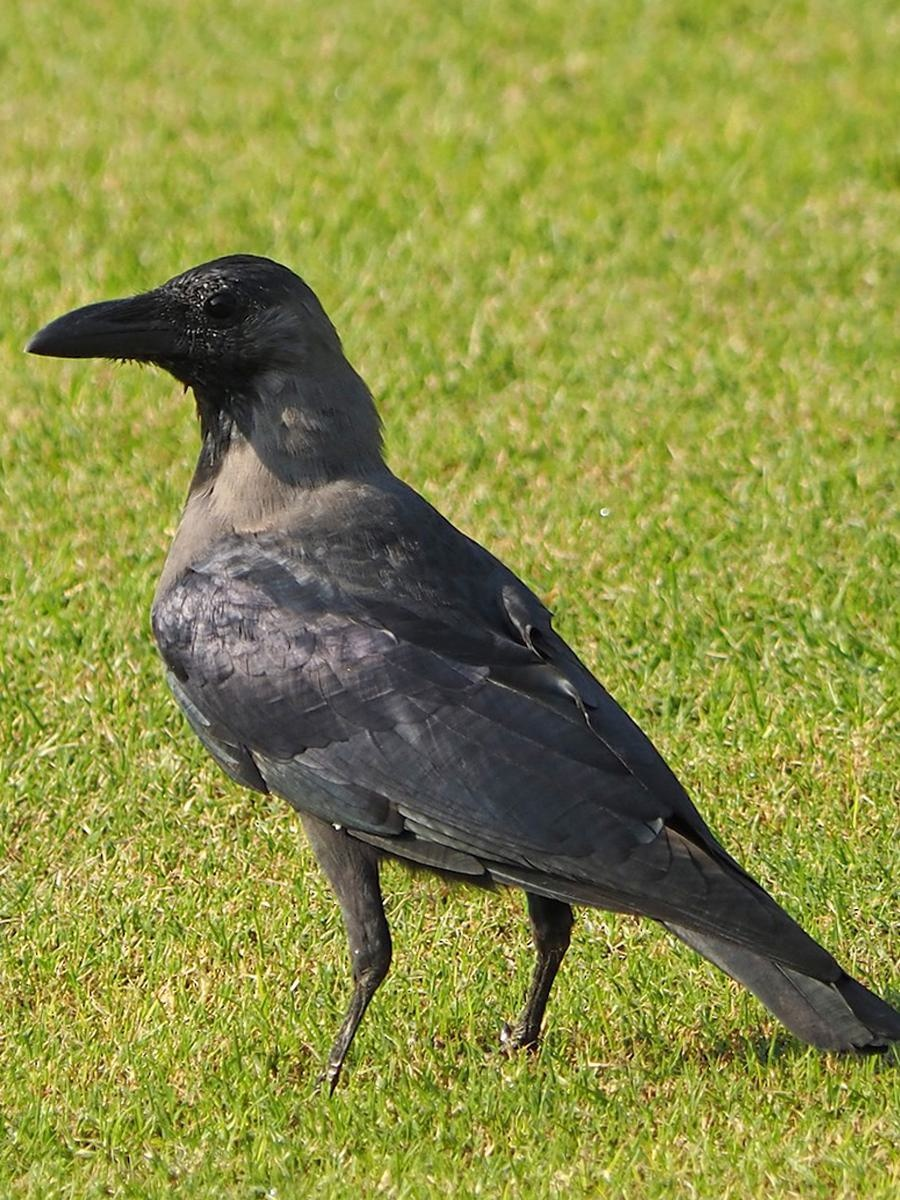crow: (26, 242, 900, 1174)
